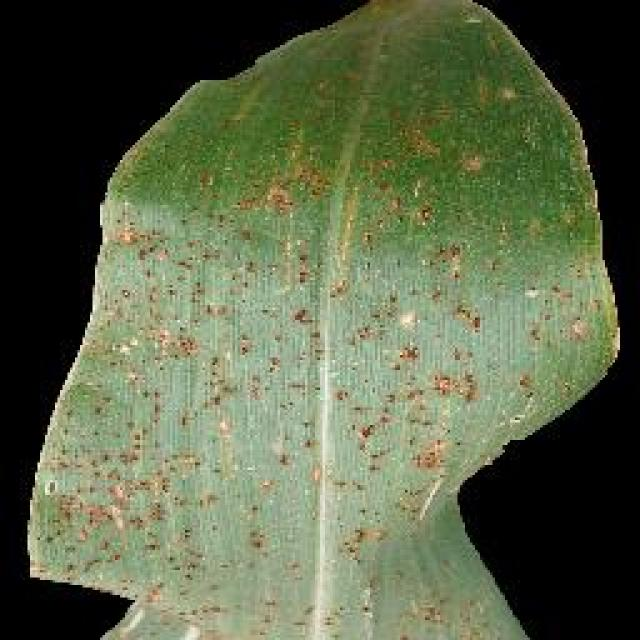Corn Common Rust: (105, 157, 520, 568)
